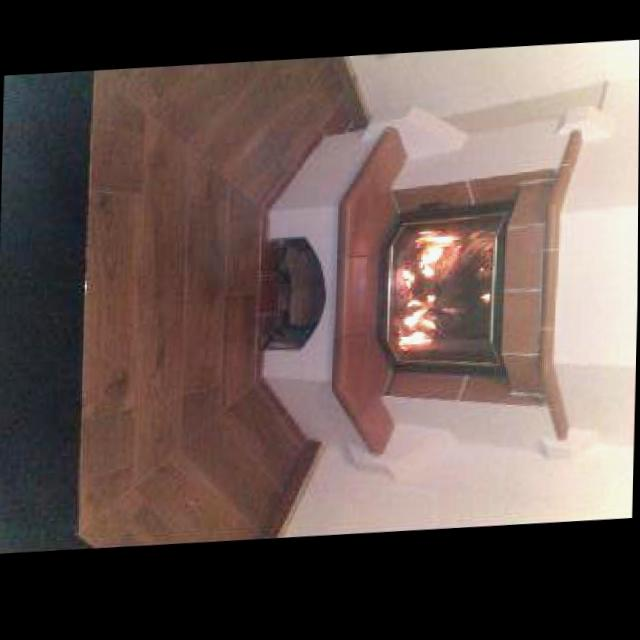helmet: (389, 224, 510, 371)
